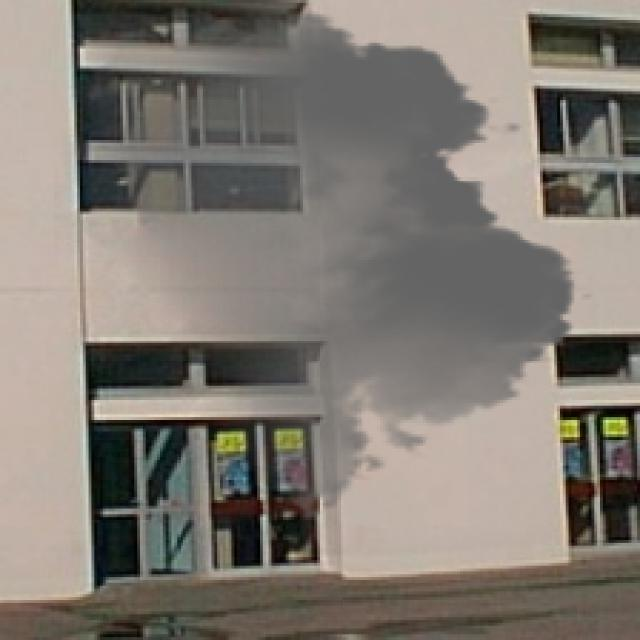smoke: (55, 0, 594, 523)
